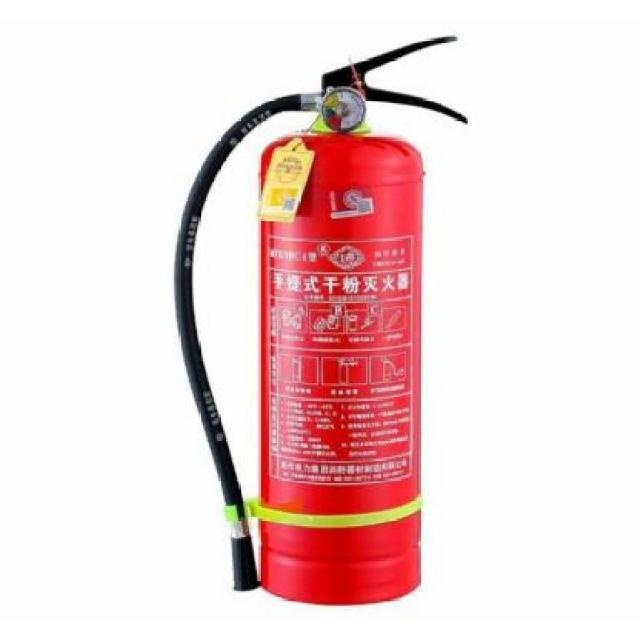fire extinguisher: (175, 37, 467, 606)
